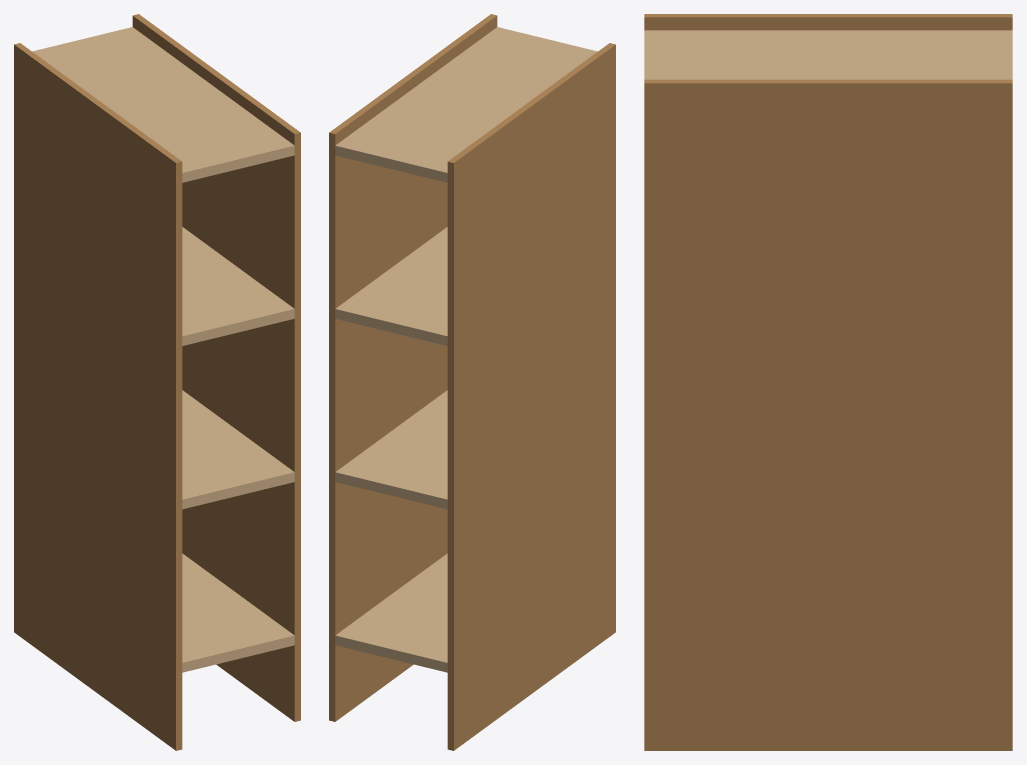
3 renders of one model, left to right at view 1: azimuth 30°, elevation 25°; view 2: azimuth 150°, elevation 25°; view 3: azimuth 270°, elevation 25°, orthographic. The views are drawn at different scales.
Visible parts, largest first — view 1: estante_of4; view 2: estante_of4; view 3: estante_of4.
Boxes of the visible parts, <box> form: estante_of4: <box>14,14,300,750</box>; estante_of4: <box>329,14,615,750</box>; estante_of4: <box>644,14,1012,750</box>.
Size of the model in its own units: 0.4 by 0.9 by 1.8.
